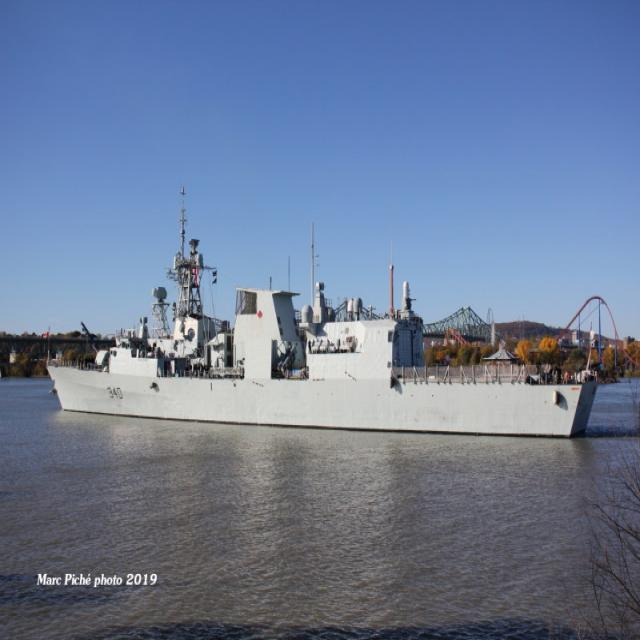Fragata: (38, 186, 601, 449)
